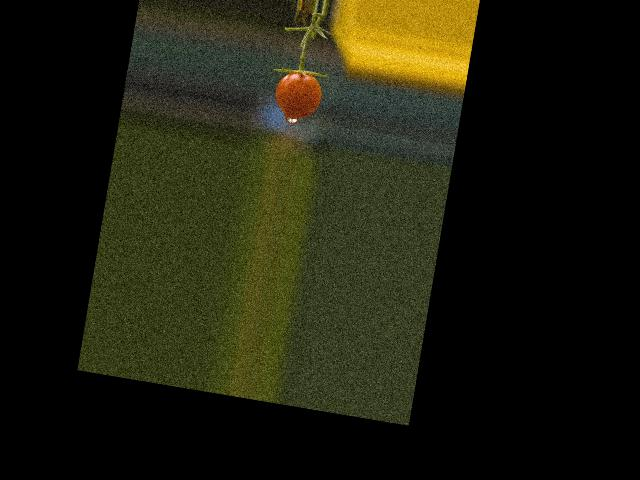tomato: (271, 68, 324, 120)
